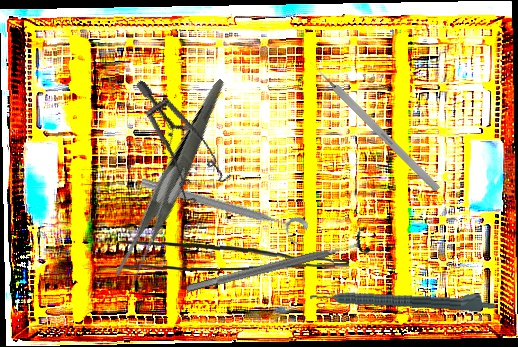Dressing Forceps: (71, 78, 278, 288)
Fixation Ring: (182, 226, 373, 303), (136, 172, 310, 249)
Handpiece: (309, 282, 496, 313)
Hook Surgical: (307, 59, 441, 193)
Speculum: (97, 79, 251, 217)
Tissue Forceps: (118, 232, 350, 276)
